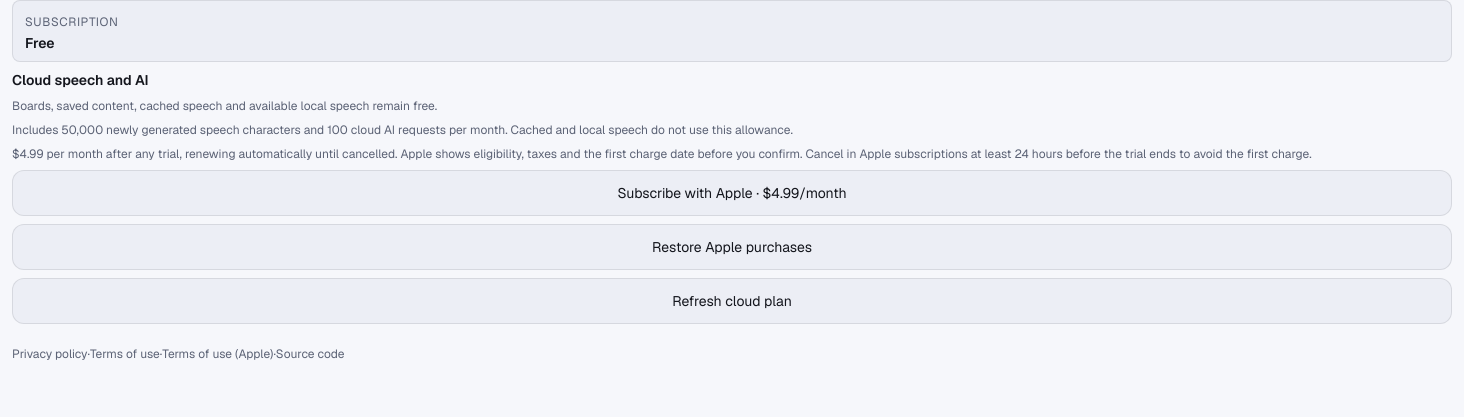
Test: cloud plan funnel telemetry › separates a charged-but-undelivered purchase from Ask to Buy
Click the button "Subscribe with Apple · $4.99/month".
click(732, 193)  # box [12,170,1452,216]
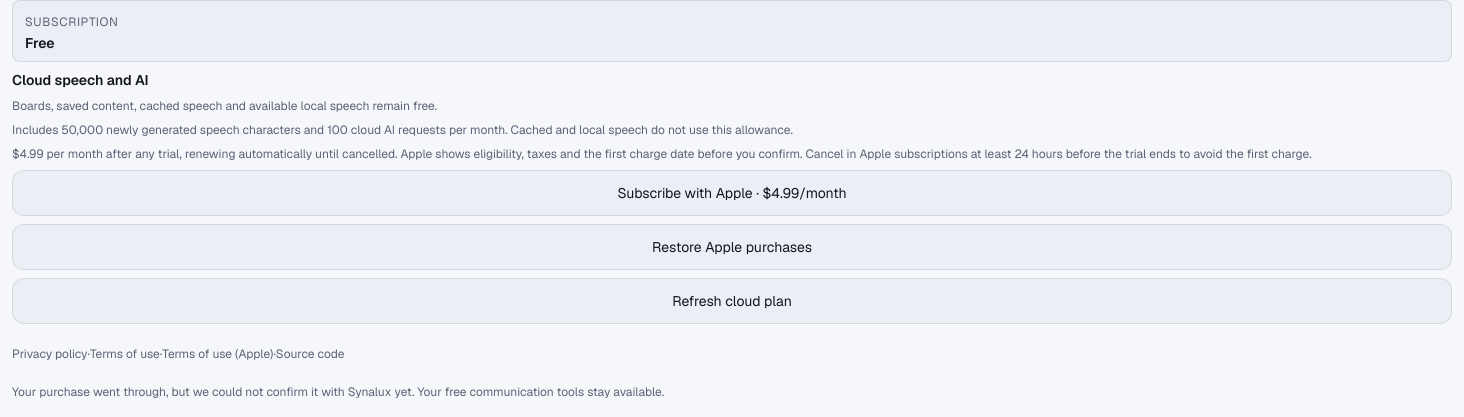
Result: the text "could not confirm it with Synalux" is shown at [12,384,664,400]
